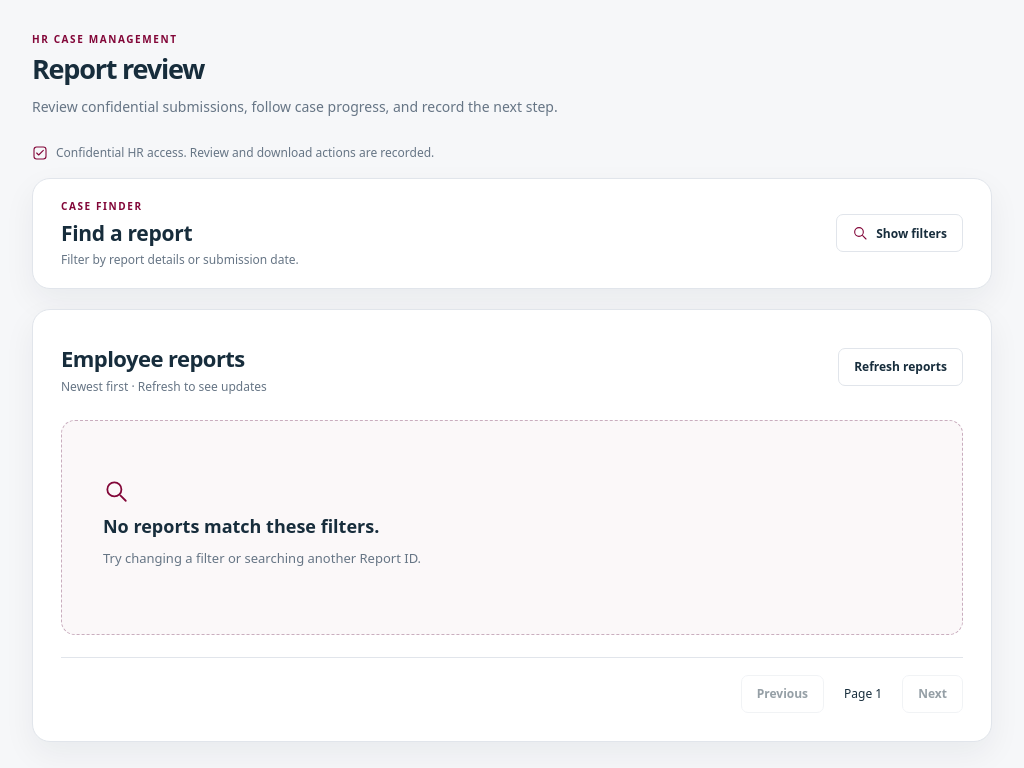
Scenario: loads new reports only when manually refreshed
Check: the heading "No reports match these filters." is shown, box [103, 514, 379, 538]
Click the button "Refresh reports".
click(901, 367)  # box [838, 348, 963, 386]
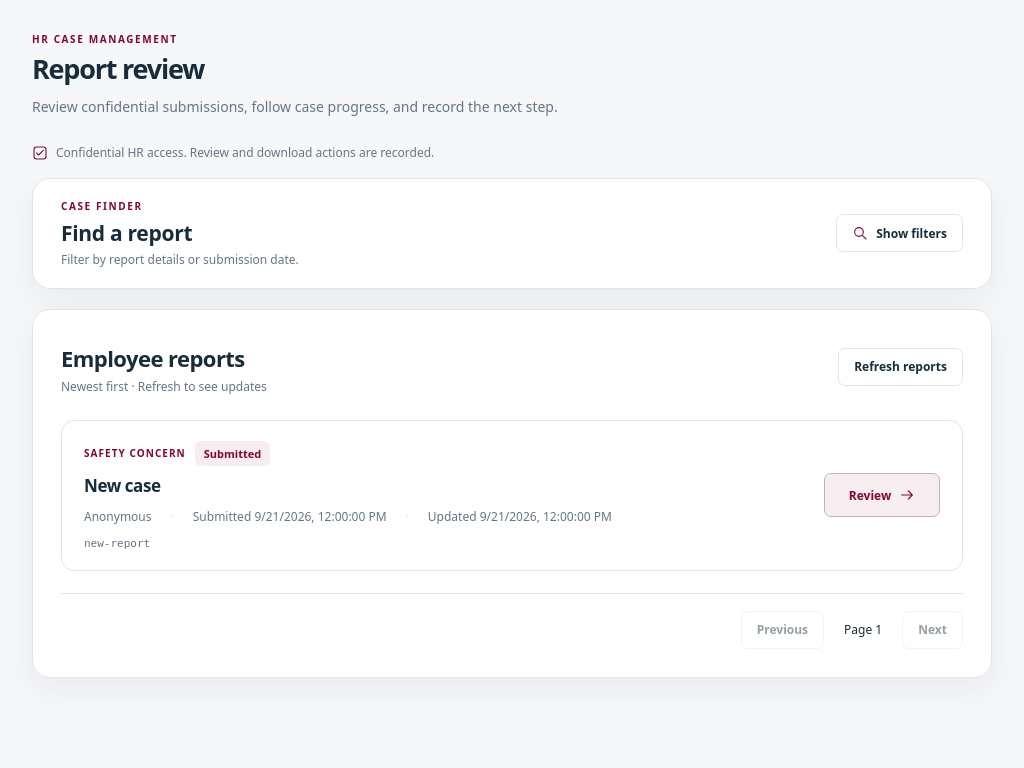
Check: the heading "New case" is shown, box [84, 474, 161, 497]
